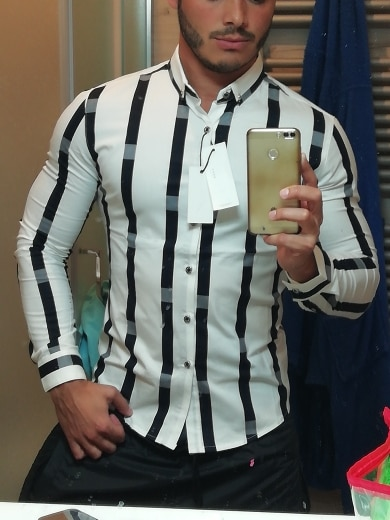shirts: (25, 52, 377, 440)
